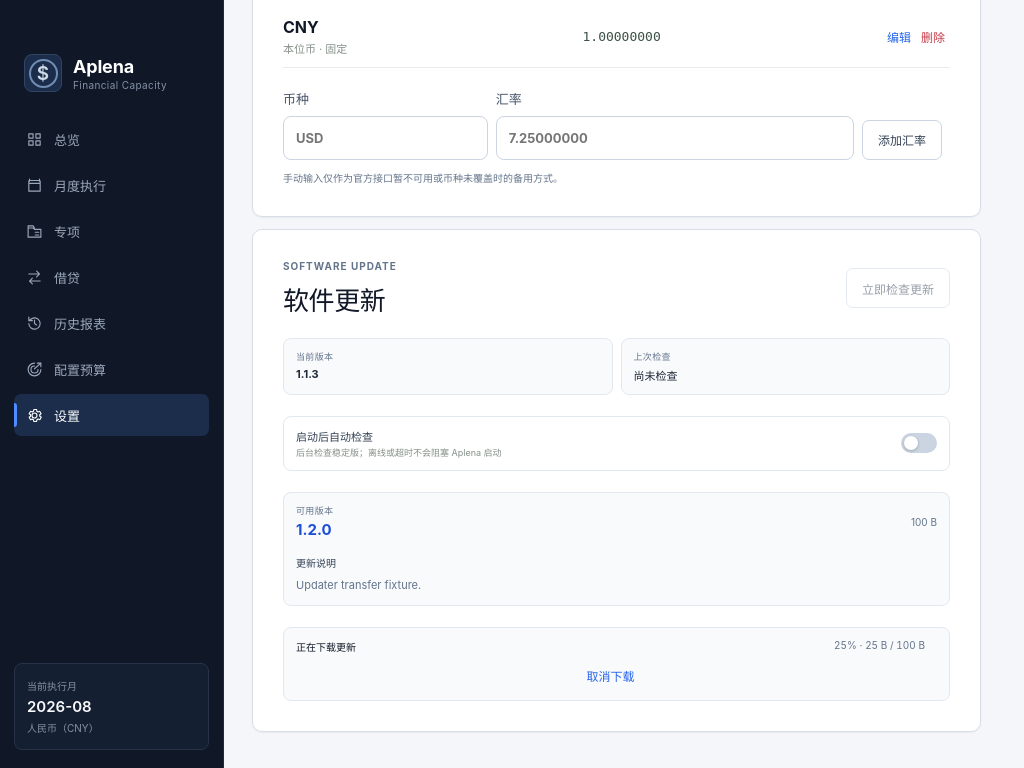
Test: planning workflows › renders transfer events, permits cancellation only while downloading, and cleans up
(page scrolled)
Expected: the heading "软件更新" is shown, [283,280,397,317]
Expected: the text "25% · 25 B / 100 B" is shown, [834,639,925,654]
Click the button "取消下载" at (610, 676), box [296,662,925,689]
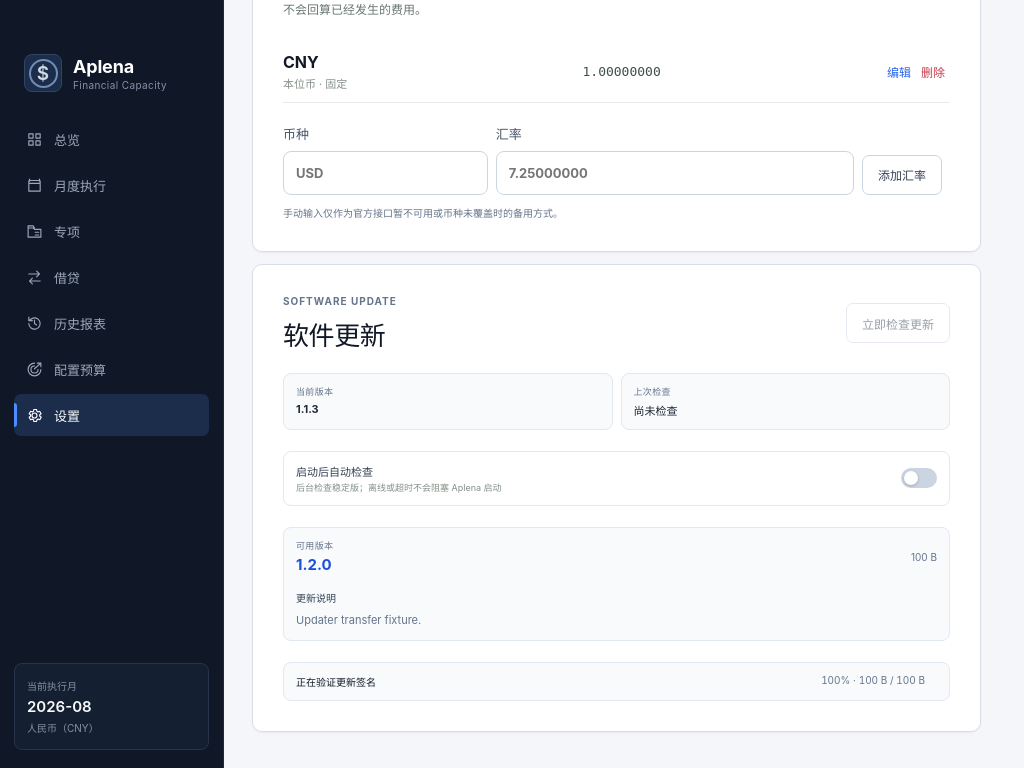
Expected: the text "正在验证更新签名" is shown, [296,674,376,689]
Expected: the button "取消下载" is gone
